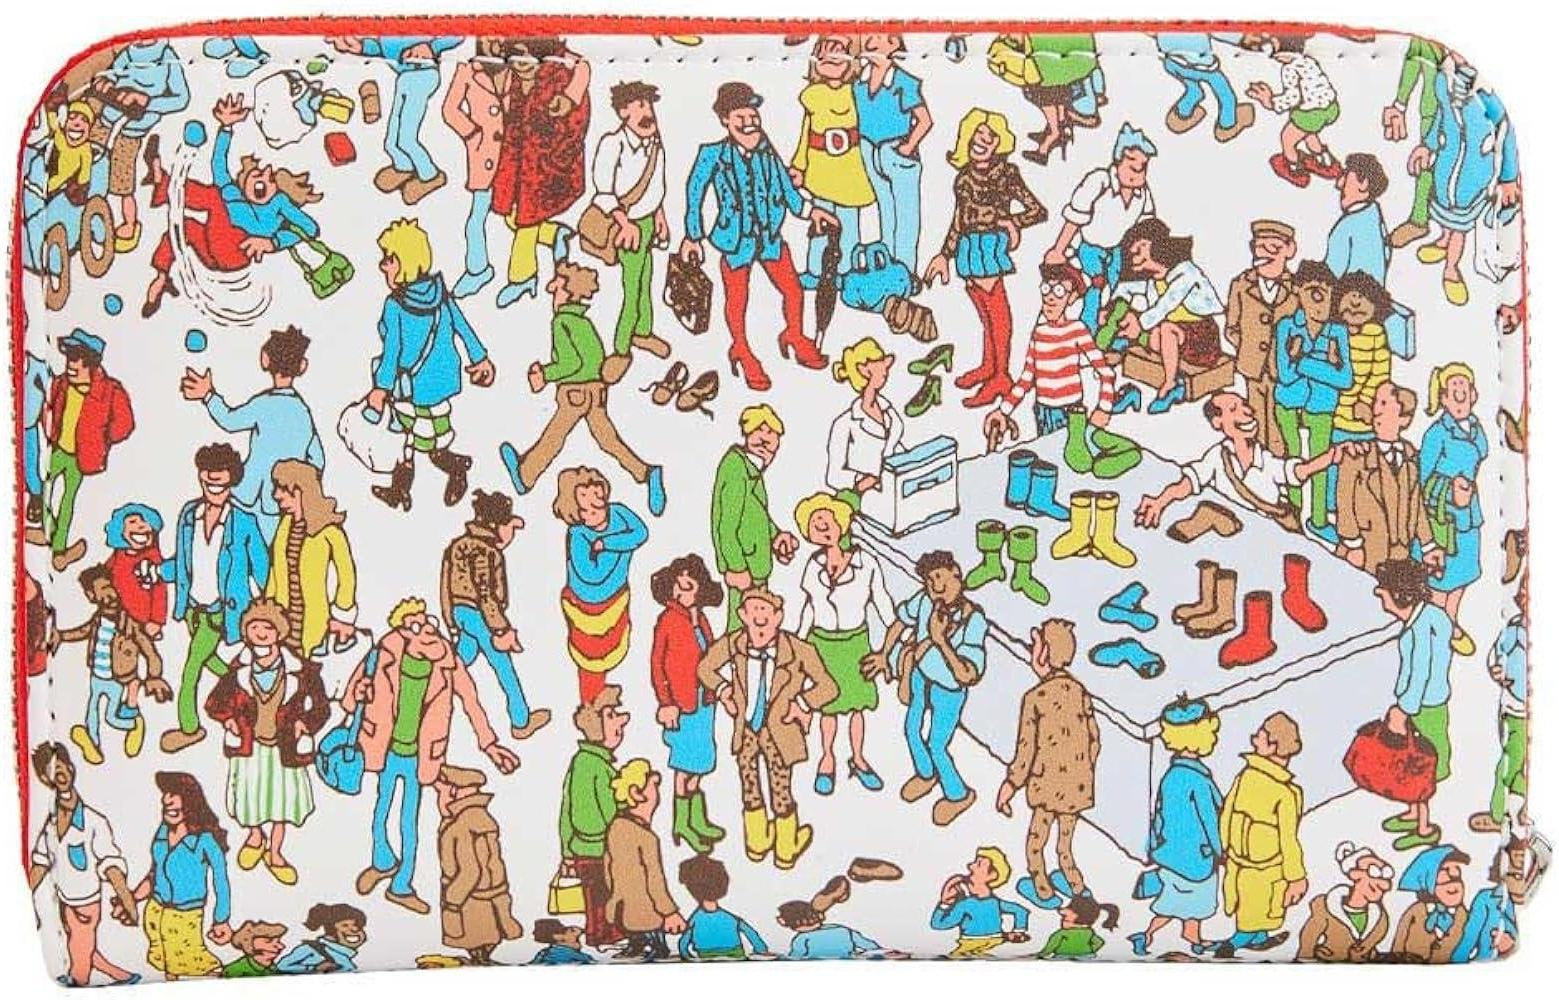waldos: (1004, 267, 1114, 431)
